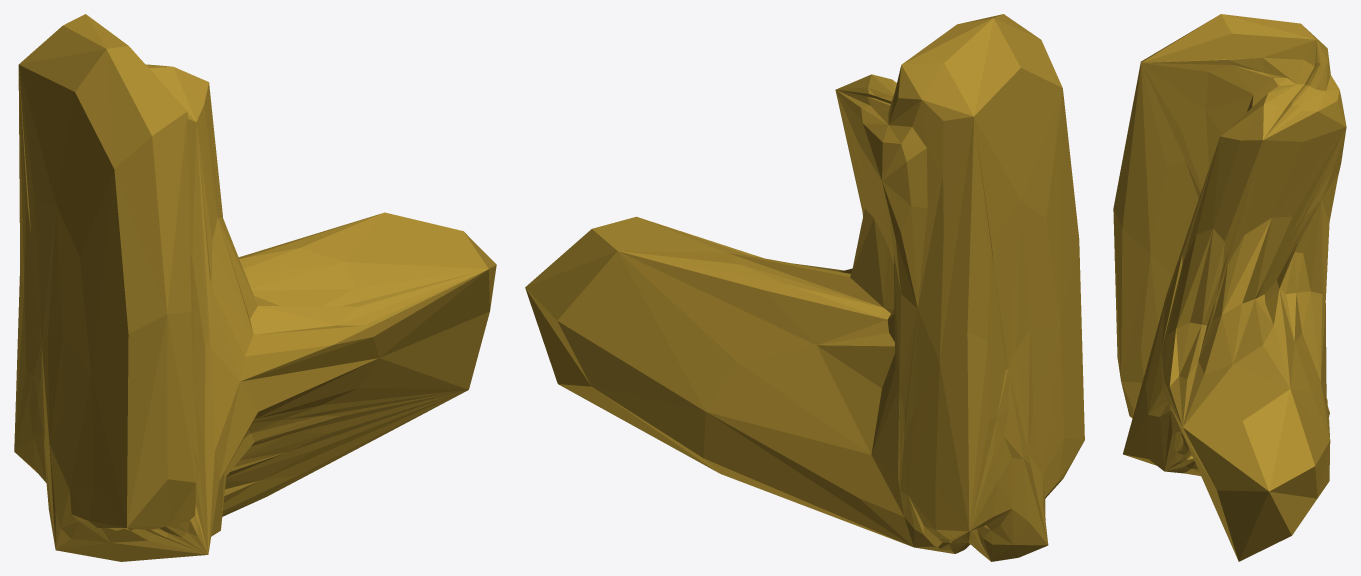
3 views of the same model, side by side, from view 1: azimuth 30°, elevation 25°; view 2: azimuth 150°, elevation 25°; view 3: azimuth 270°, elevation 25° (orthographic). The views are drawn at different scales.
Visible parts, largest first — view 1: 050_Cube.202; view 2: 050_Cube.202; view 3: 050_Cube.202.
Boxes of the visible parts, left/top/right/bottom form: 050_Cube.202: left=14, top=14, right=496, bottom=561; 050_Cube.202: left=525, top=14, right=1084, bottom=561; 050_Cube.202: left=1113, top=14, right=1346, bottom=561.
Size of the model in its own units: 13.25 by 13.75 by 6.47.
